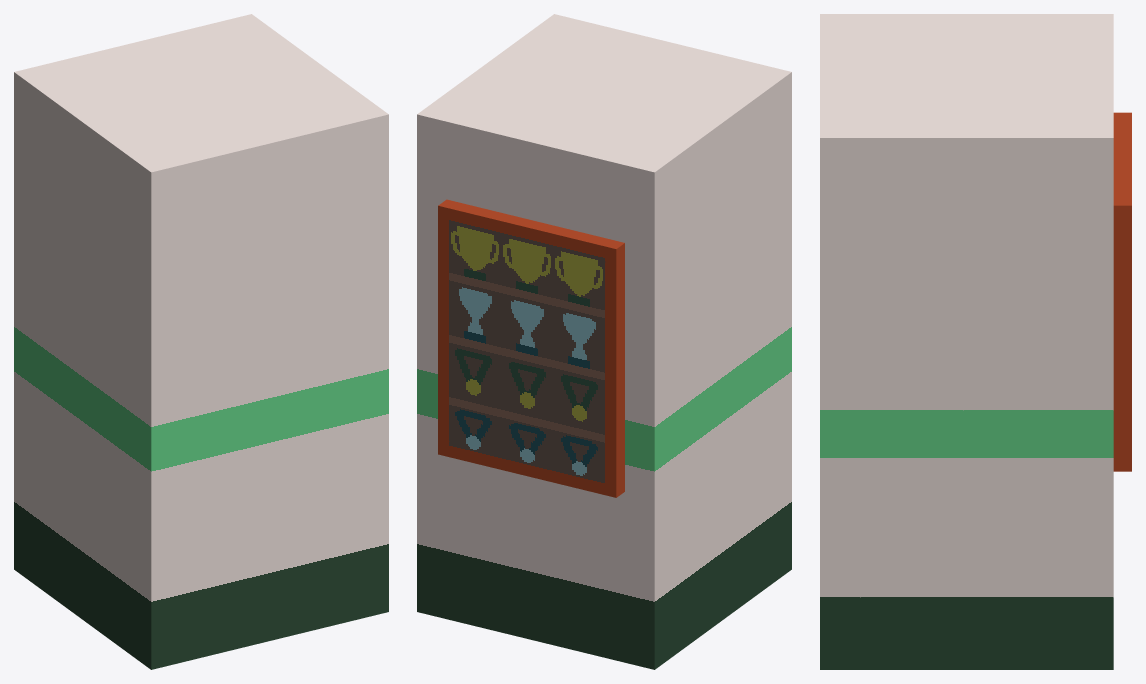
The model's file is SportWall2.glb.
The picture shows the model from 3 angles, left to right: view 1: azimuth 30°, elevation 25°; view 2: azimuth 150°, elevation 25°; view 3: azimuth 270°, elevation 25°; orthographic projection. The views are drawn at different scales.
Visible parts, largest first — view 1: cuboid.001; view 2: cuboid.001; view 3: cuboid.001.
Part boxes in pixels (left/top/right/bottom): cuboid.001: left=14, top=14, right=388, bottom=669; cuboid.001: left=417, top=14, right=791, bottom=669; cuboid.001: left=820, top=14, right=1131, bottom=669.
Bounding box in the file's own units: 2 × 4 × 2.12.
1 material, 1 textured.
